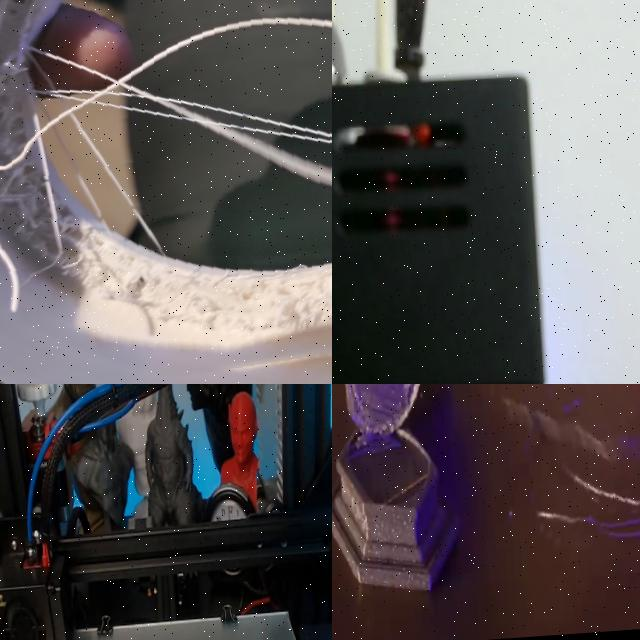spaghetti: (0, 0, 332, 384), (469, 384, 640, 548)
